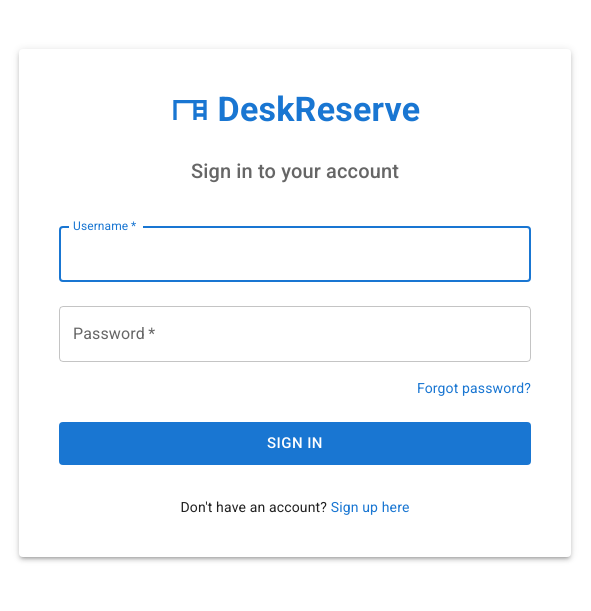
Test: Login Component › 4. displays an error message if the API rejects the login
The width and height of the screenshot is (591, 611).
Type "wrong" into the field labelled "Username *" at (295, 254), box [59,226,531,282]
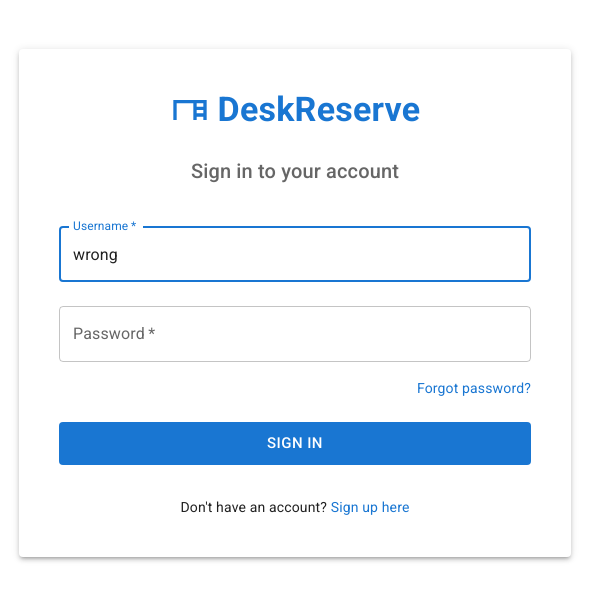
Type "wrongpass" into the password field labelled "Password *" at (295, 334), box [59,306,531,362]
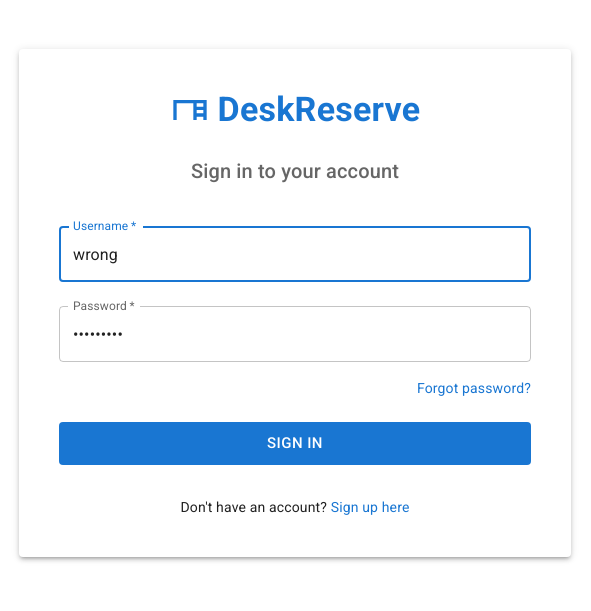
Click the button "Sign In" at (295, 444), box [59,422,531,465]
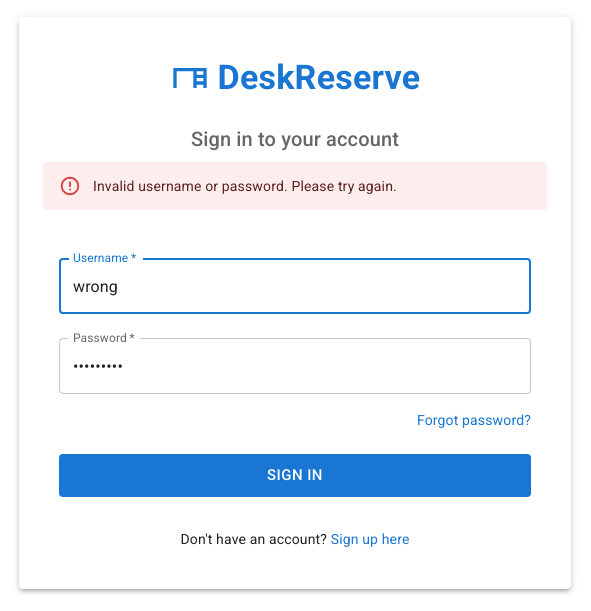
Expected: the text "Invalid username or password. Please try again." is shown, [93,178,397,194]
